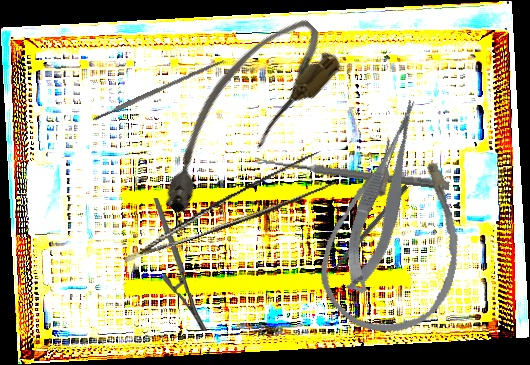Cannula: (131, 5, 350, 226), (309, 129, 483, 346)
Micro Scissor: (327, 96, 443, 297)
Needle Holder: (152, 197, 209, 332)
Pusher: (320, 183, 409, 284)
Scalpel Handle: (91, 58, 225, 122)
Surgical Spoon: (254, 156, 450, 190)
Tissue Forceps: (111, 148, 343, 263)
